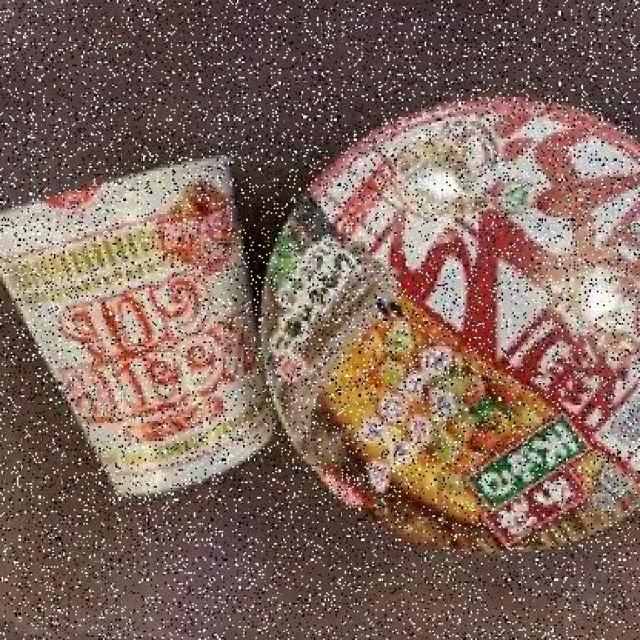Miscellaneous: (232, 96, 640, 564), (0, 140, 248, 528)
